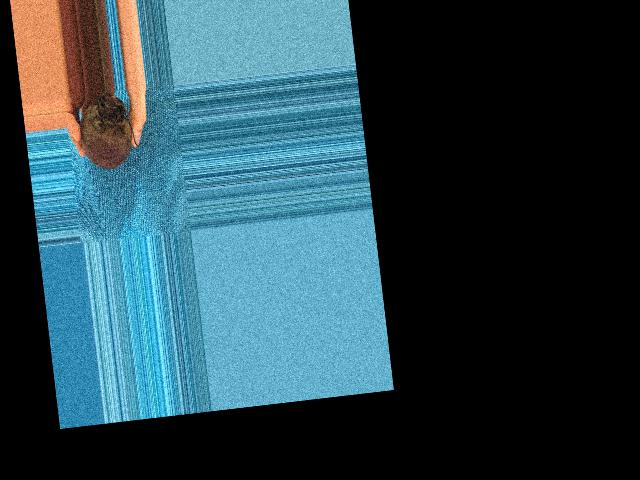beet: (75, 90, 142, 172)
